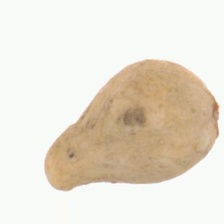L1: (40, 136, 70, 192), (206, 93, 220, 138)
L2: (42, 58, 219, 191)
